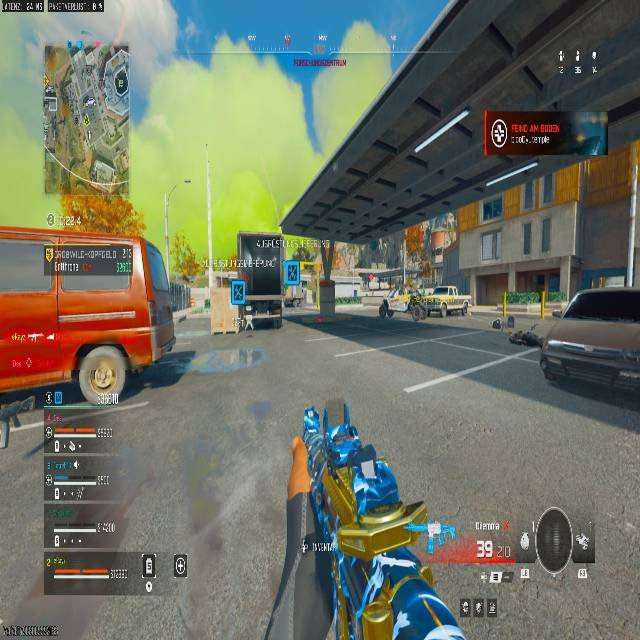player: (377, 296, 394, 319)
